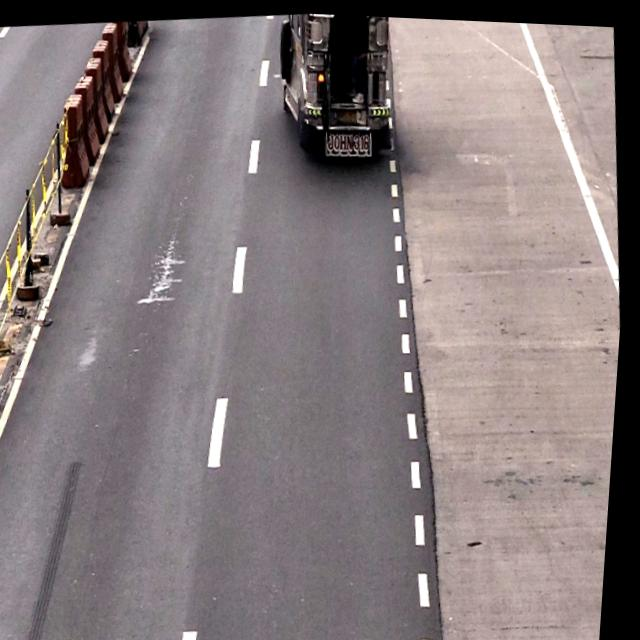Jeep: (271, 10, 397, 160)
